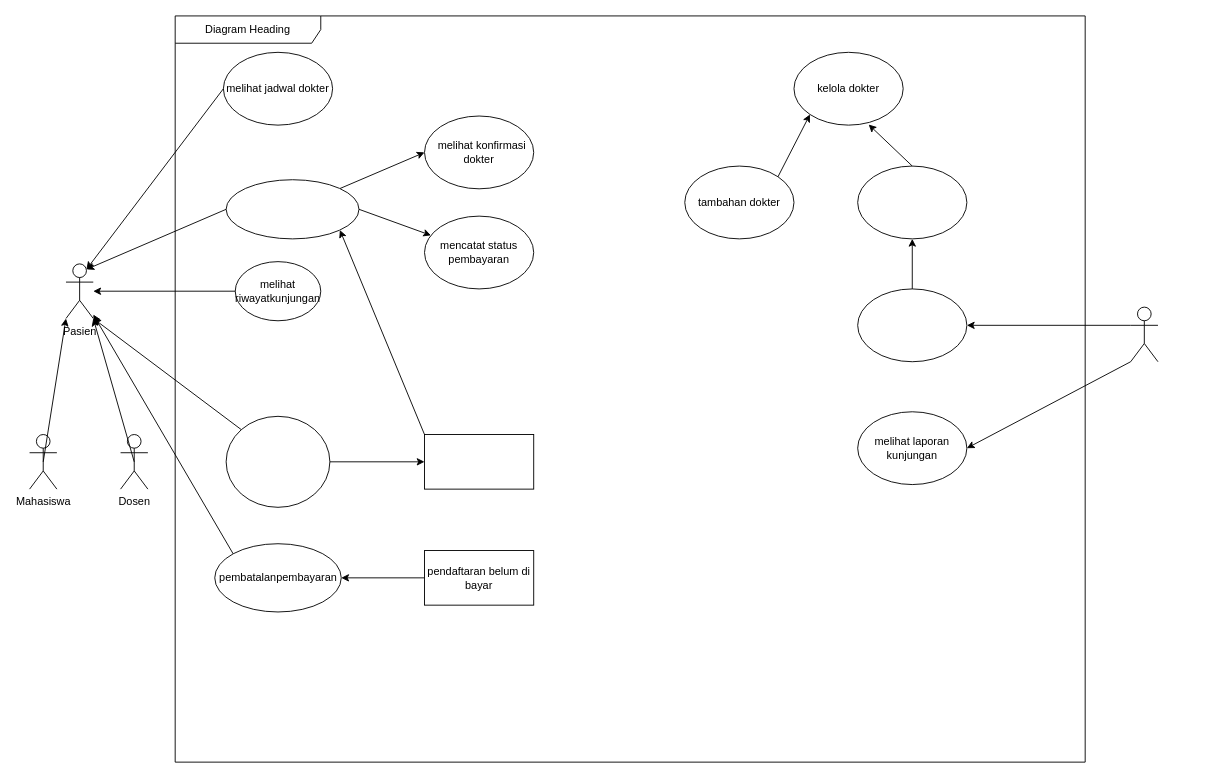
The diagram is 1209 pixels wide and 778 high, and some of its shapes have lost their labels. Here are the shapes that lost their labels. From the top down, the centre of each, then its label:
the point at 292,209: mendaftar obat
the point at 912,202: uabah data dokter
the point at 912,325: hapus data dokter
the point at 1144,334: petugas pendaftaran
the point at 277,461: membayar adminitarsi
the point at 479,461: pendaftaran status pembayaran
